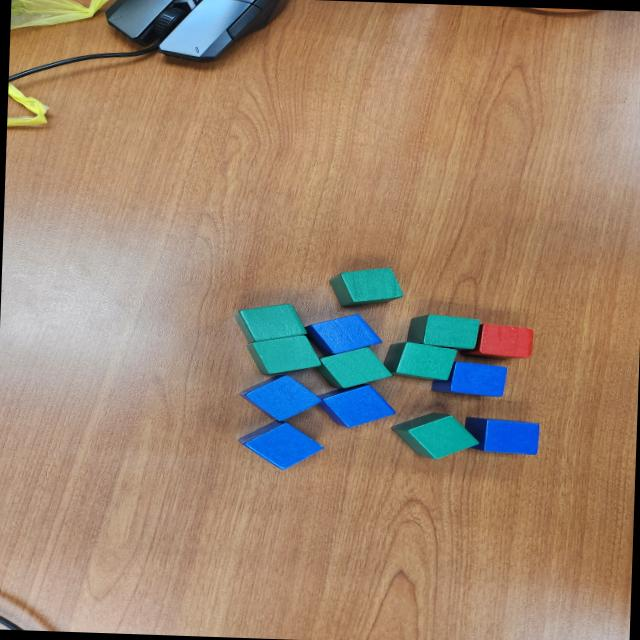blue: (237, 418, 325, 470), (238, 372, 324, 422), (314, 382, 398, 430), (303, 311, 384, 359), (462, 416, 540, 456), (430, 360, 508, 397)
green: (389, 410, 482, 460), (312, 344, 393, 390), (326, 264, 404, 310), (244, 333, 324, 377), (231, 300, 308, 345), (382, 341, 458, 382), (405, 313, 480, 352)
red: (458, 322, 534, 361)
